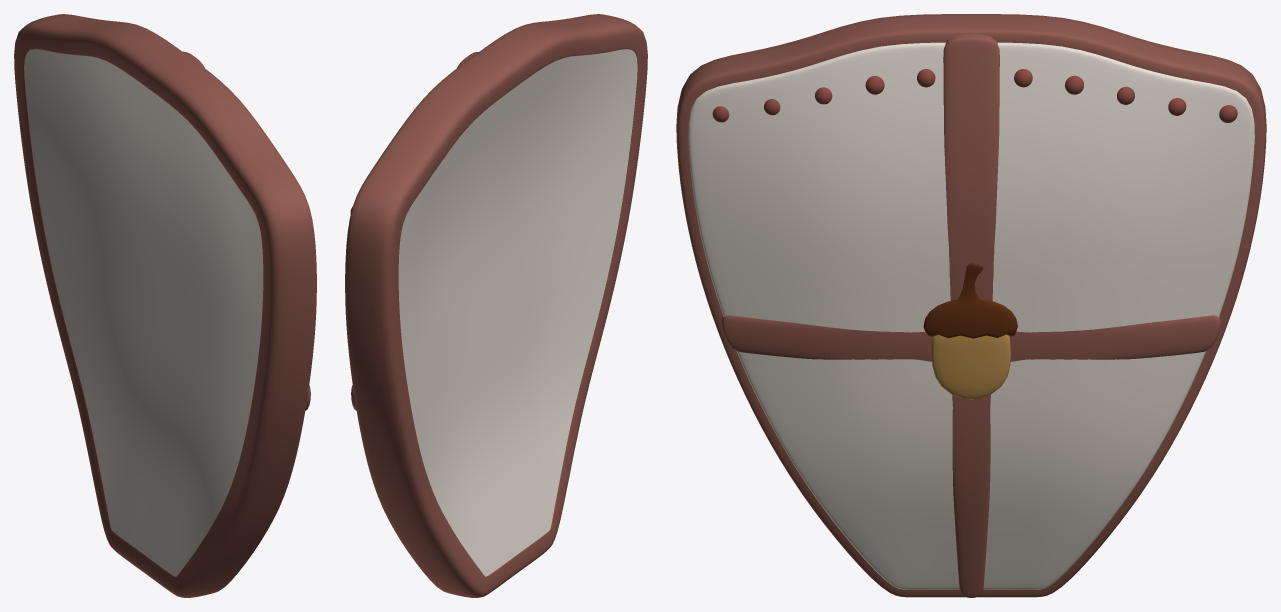
Rendered from Shield.fbx.
The picture shows the model from 3 angles, left to right: view 1: azimuth 30°, elevation 25°; view 2: azimuth 150°, elevation 25°; view 3: azimuth 270°, elevation 25°; orthographic projection. The views are drawn at different scales.
Parts seen in each view (by area): view 1: Cube.001, Cube; view 2: Cube.001, Cube; view 3: Cube.001, Cube.002, Cube, Acorn, Acorn.001, 球體.001, 球體.
Boxes of the visible parts, x1=… form: Cube.001: x1=24, y1=49, x2=263, y2=576; Cube: x1=14, y1=14, x2=316, y2=597; Cube.001: x1=398, y1=49, x2=637, y2=576; Cube: x1=345, y1=14, x2=647, y2=597; Cube.001: x1=688, y1=42, x2=1254, y2=589; Cube.002: x1=721, y1=34, x2=1221, y2=597; Cube: x1=676, y1=14, x2=1266, y2=597; Acorn: x1=931, y1=334, x2=1010, y2=399; Acorn.001: x1=923, y1=263, x2=1017, y2=338; 球體.001: x1=1014, y1=69, x2=1237, y2=122; 球體: x1=712, y1=69, x2=935, y2=122.
Size of the model in its own units: 38.85 by 219 by 205.
